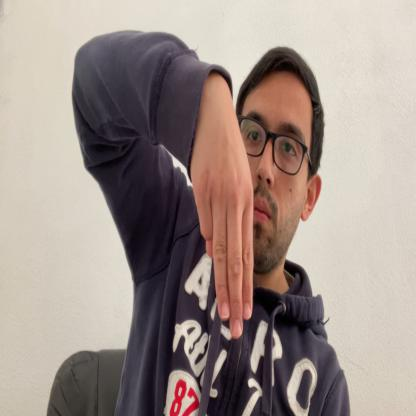M: (191, 83, 254, 342)
